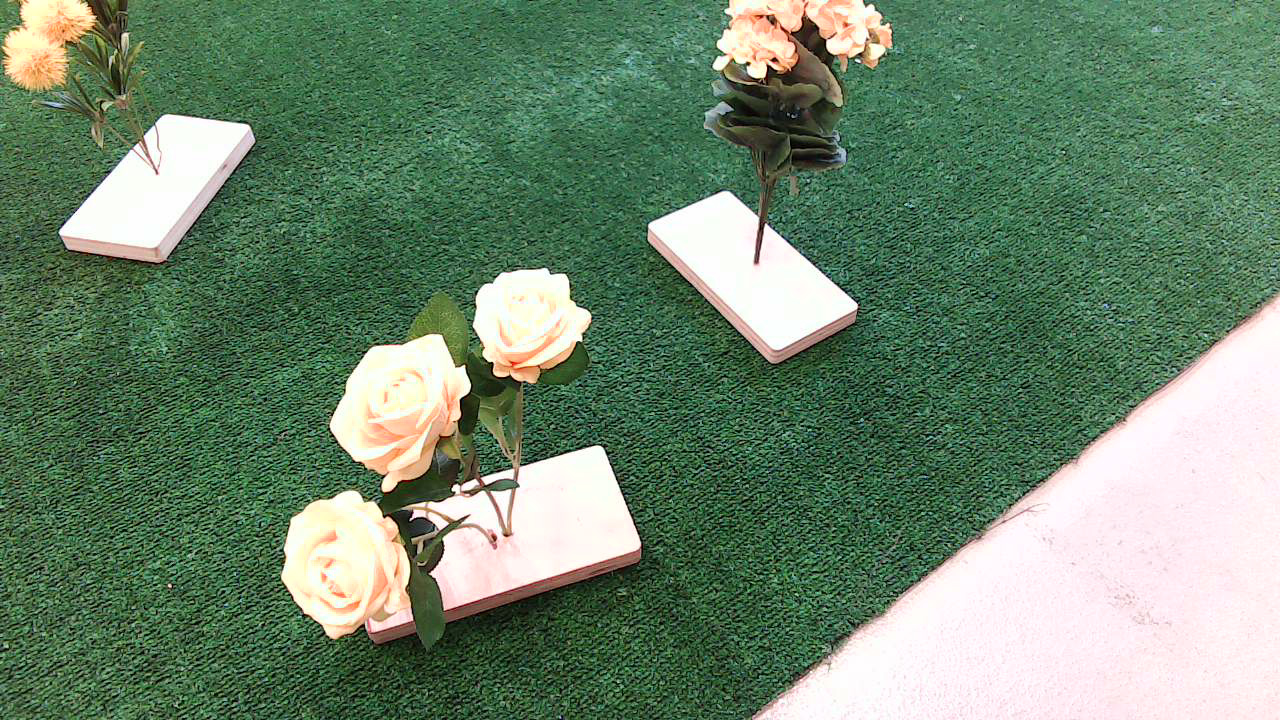dandelion: (6, 6, 249, 201)
geranium: (673, 1, 921, 282)
rose: (248, 267, 615, 686)
